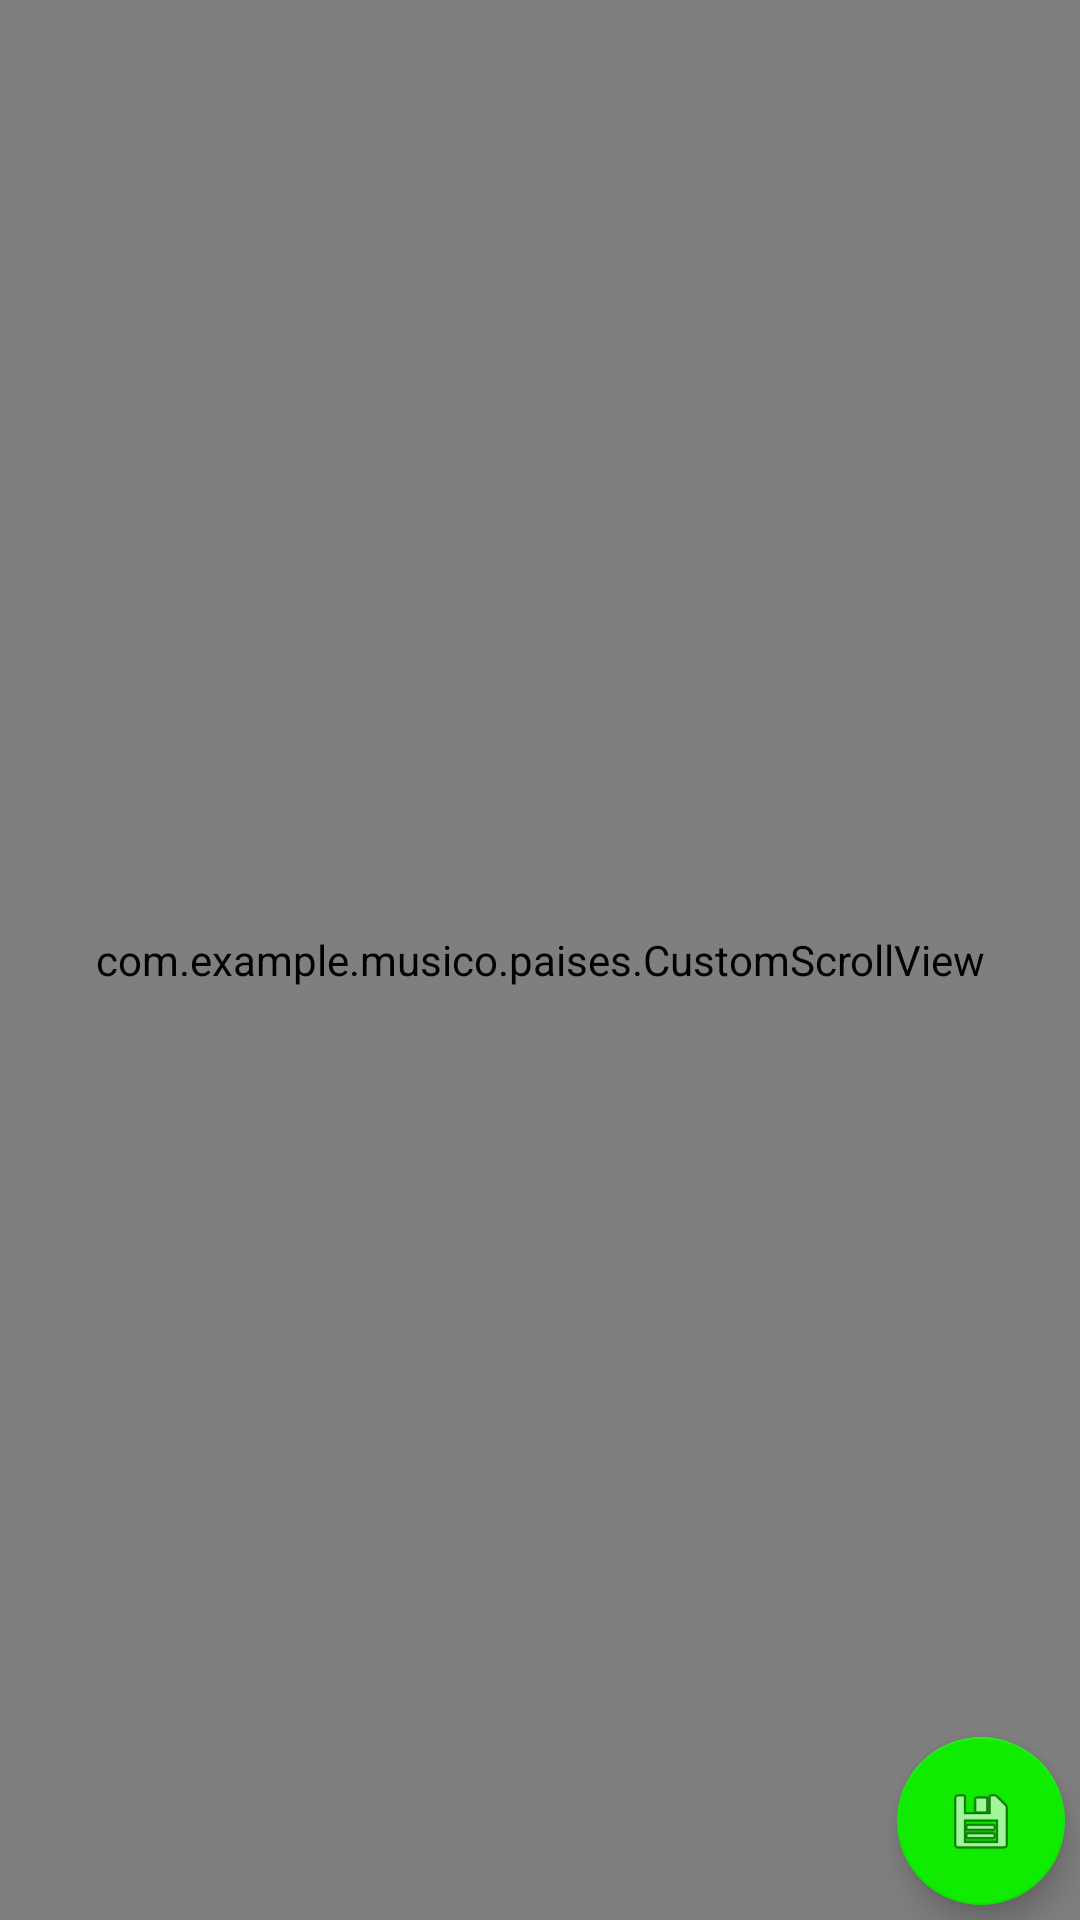

Screen size 1080 x 1920. Icon name, then its box in pixels as (x1, y1, x2, y2):
save: (897, 1737, 1065, 1905)
